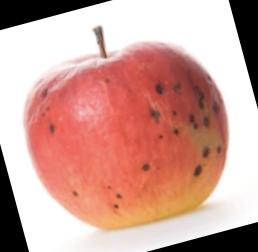Apple: (24, 41, 231, 230)
